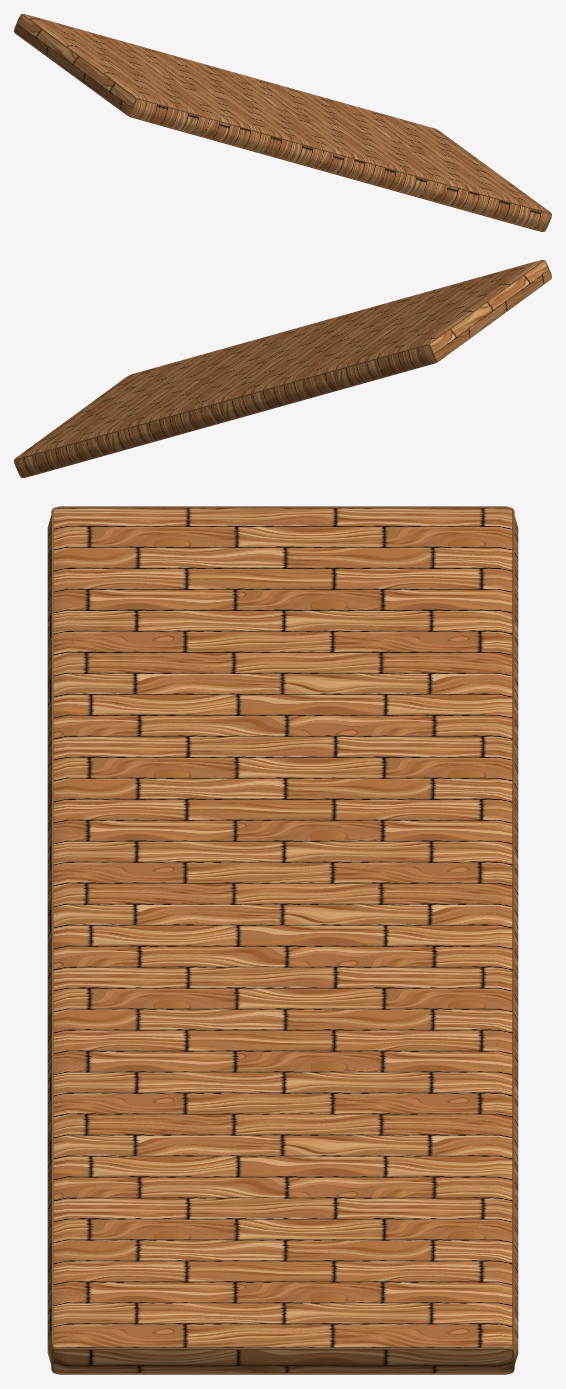
Rendered from SM_FoamRamp_2x4.fbx.
3 views of the same model, one above another, from view 1: azimuth 30°, elevation 25°; view 2: azimuth 150°, elevation 25°; view 3: azimuth 270°, elevation 25° (orthographic). The views are drawn at different scales.
Parts seen in each view (by area): view 1: SM_SoftFoam_Ramp_2x4; view 2: SM_SoftFoam_Ramp_2x4; view 3: SM_SoftFoam_Ramp_2x4.
Part boxes in pixels (bbox=[...]): SM_SoftFoam_Ramp_2x4: bbox=[14, 14, 551, 231]; SM_SoftFoam_Ramp_2x4: bbox=[14, 260, 551, 477]; SM_SoftFoam_Ramp_2x4: bbox=[47, 506, 518, 1374].
Size of the model in its own units: 396 by 209 by 190.
